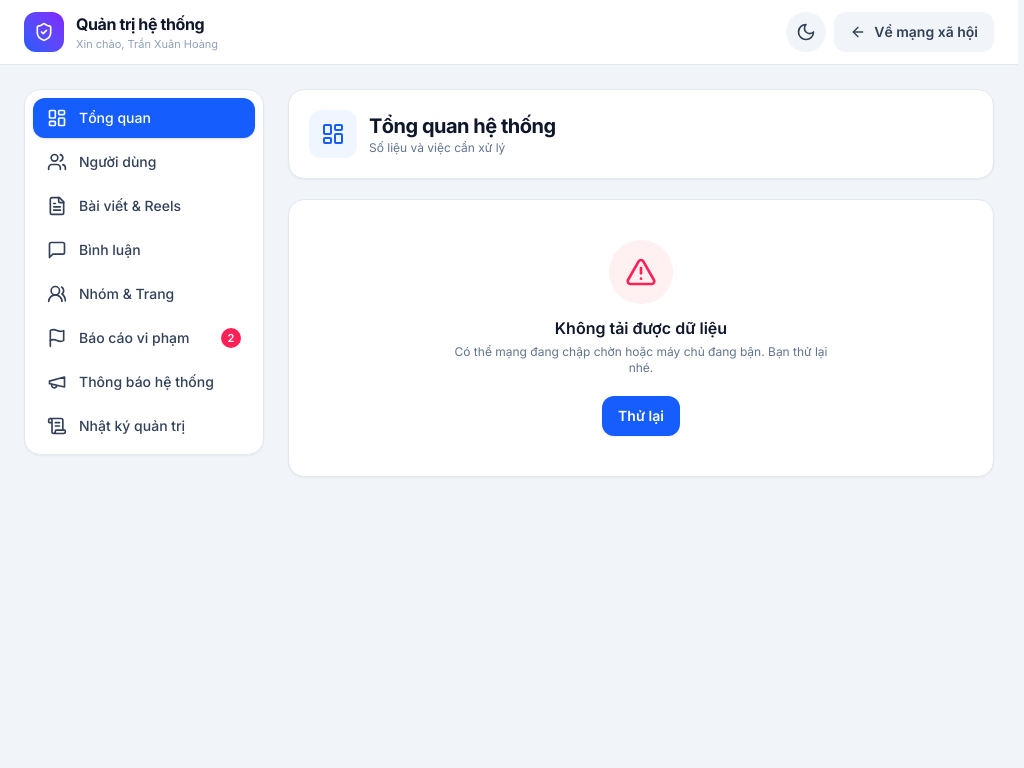
Tổng quan › tải lỗi → màn hình lỗi, "Thử lại" tải lại được
The width and height of the screenshot is (1024, 768).
What coordinates should you click on to do the following:
click the button "Thử lại"
I would click on:
 (641, 416)
Its box is [602,396,680,436].
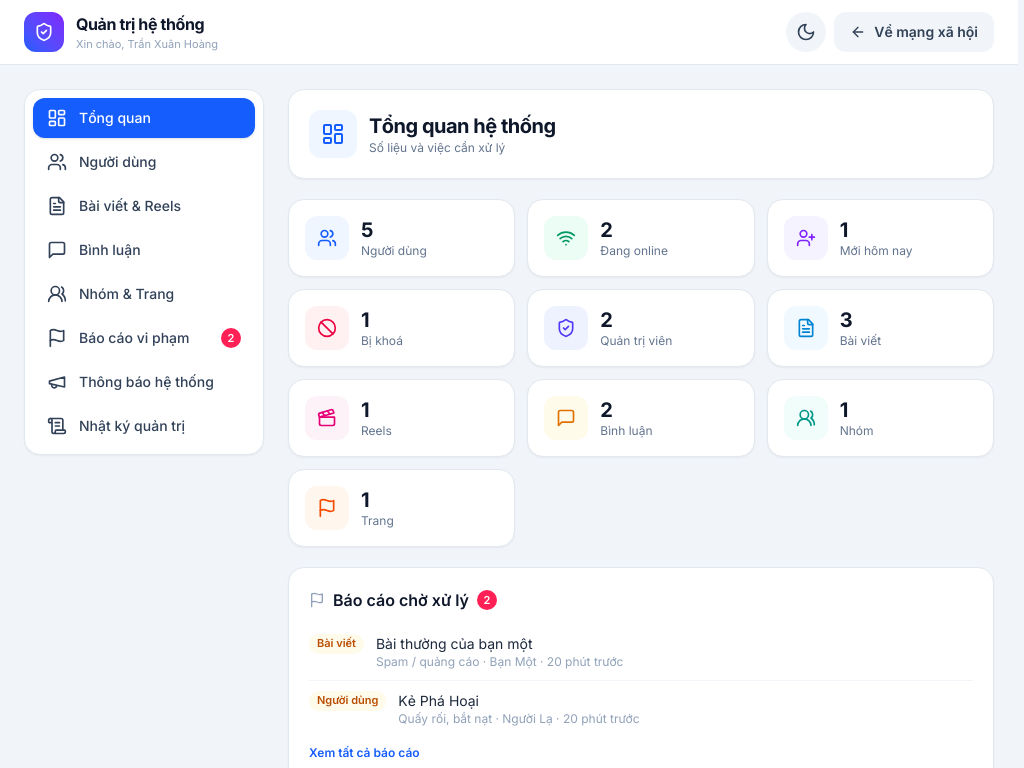
Result: the text with test id "stat-users" reads "5" at [361,218,374,242]
